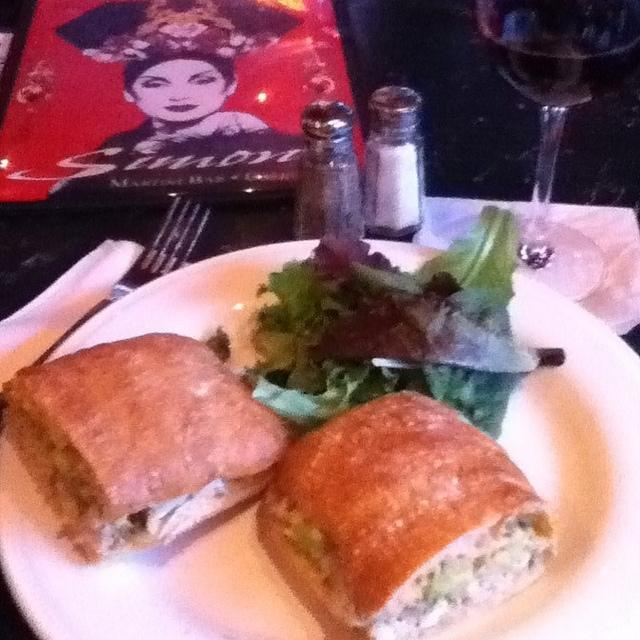lettuce: (309, 290, 540, 373), (350, 206, 521, 310), (252, 358, 399, 436), (423, 362, 534, 443), (258, 258, 342, 338), (240, 325, 296, 389)
